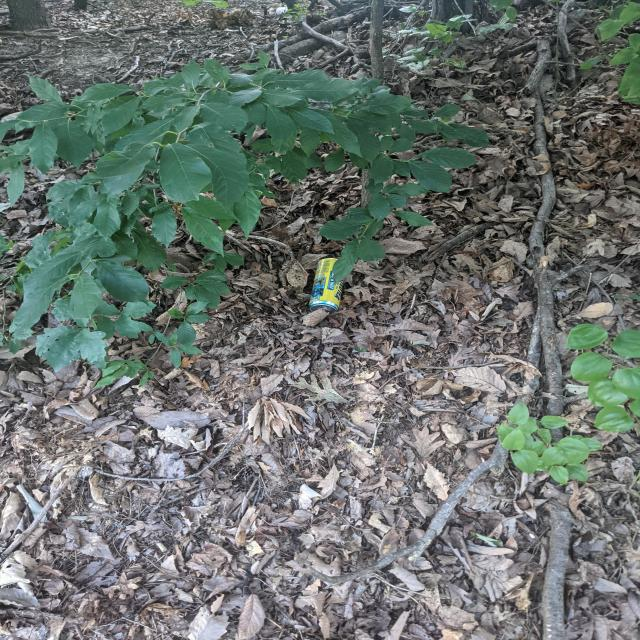litter: (309, 258, 344, 314)
